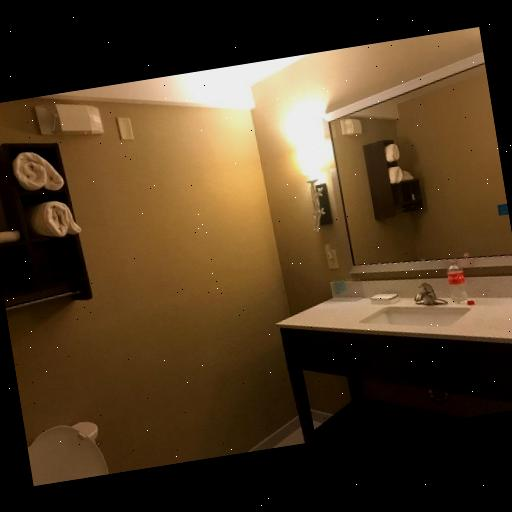clean_sink: (277, 255, 512, 405)
folded_towel: (12, 146, 66, 194), (36, 196, 78, 245)
